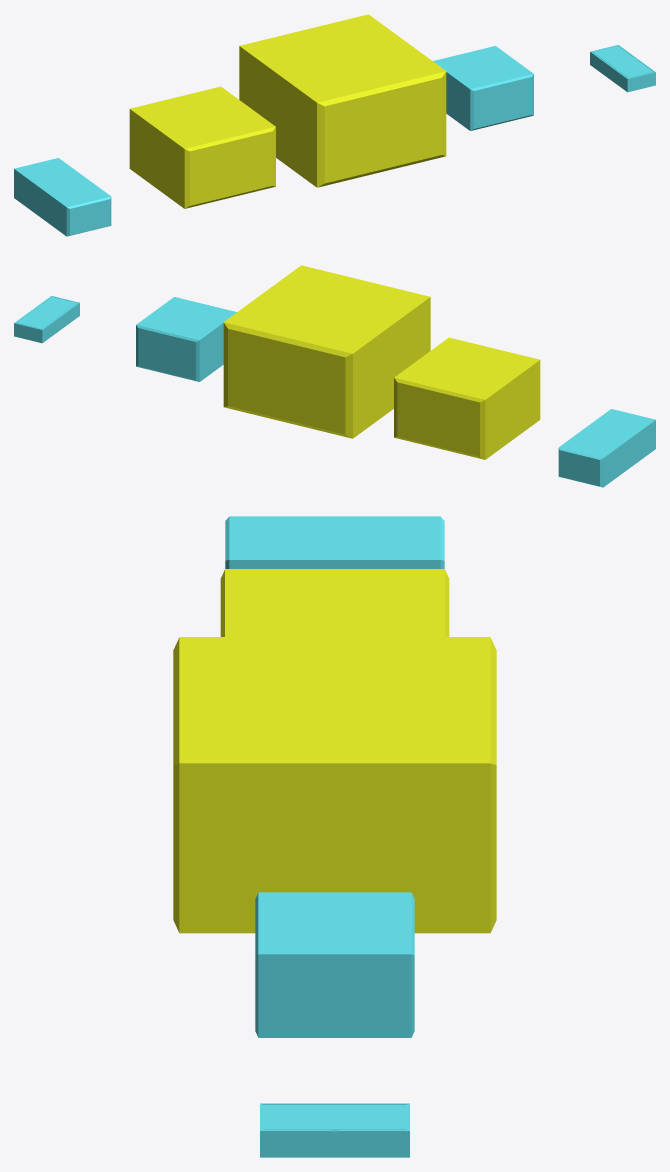
The model's file is Props_Gamelab_2.fbx.
3 views of the same model, one above another, from view 1: azimuth 30°, elevation 25°; view 2: azimuth 150°, elevation 25°; view 3: azimuth 270°, elevation 25° (orthographic). The views are drawn at different scales.
Parts seen in each view (by area): view 1: Box001, Object003, Object001, Box005, Object002; view 2: Box001, Object003, Object001, Box005, Object002; view 3: Box001, Object001, Object003, Box005, Object002.
Boxes of the visible parts, x1,y1,x2,y2 form: Box001: (239, 14, 446, 187); Object003: (129, 86, 275, 208); Object001: (433, 46, 533, 130); Box005: (14, 158, 111, 236); Object002: (590, 44, 655, 92); Box001: (223, 265, 430, 438); Object003: (394, 337, 540, 459); Object001: (136, 297, 236, 381); Box005: (558, 409, 655, 487); Object002: (14, 295, 79, 343); Box001: (173, 637, 496, 933); Object001: (255, 892, 414, 1037); Object003: (220, 569, 449, 636); Box005: (225, 516, 444, 568); Object002: (260, 1103, 409, 1157).
Bounding box in the file's own units: 612 × 83.29 × 144.
